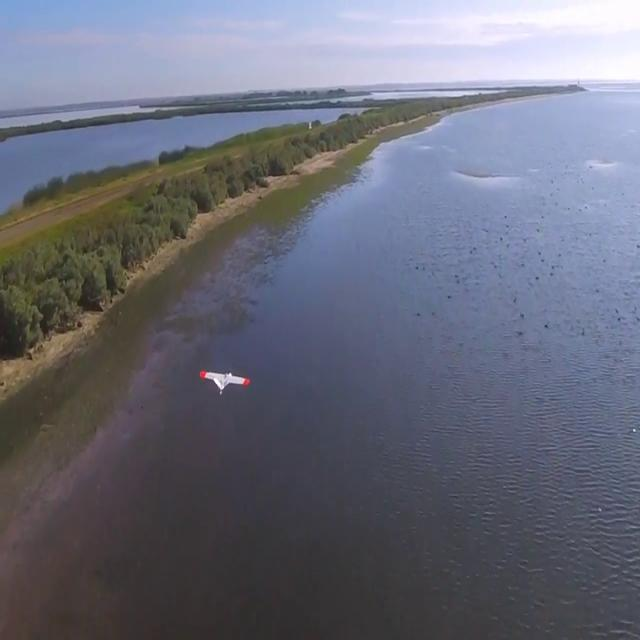iha: (199, 367, 250, 402)
